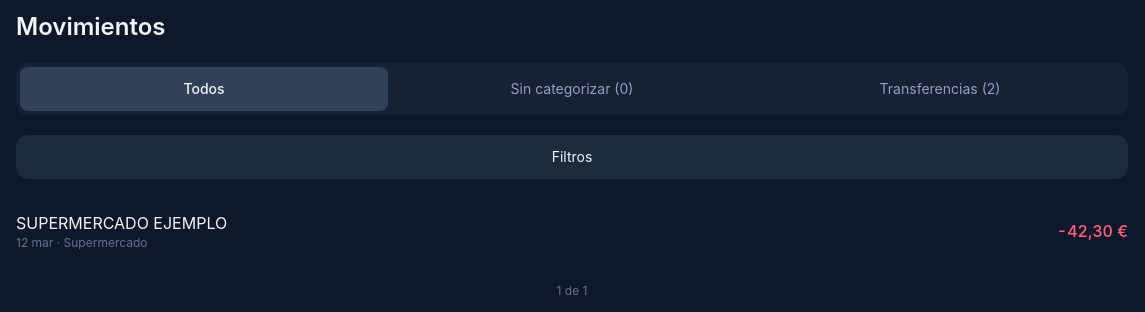
it: TransactionsScreen · la bandeja de pendientes › la bandeja vacía es una buena noticia, no un error
Click the tab "Sin categorizar (0)" at (572, 89), box [388,67,756,111]
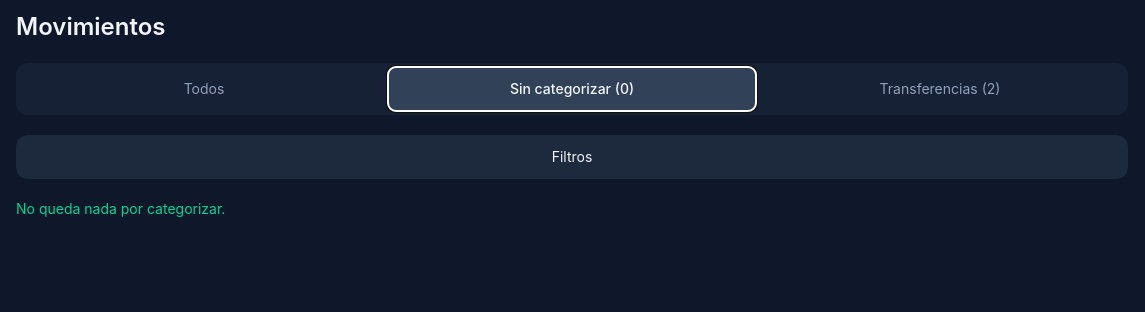
Now the text "No queda nada por categorizar." is shown, box [16,200,225,217]
